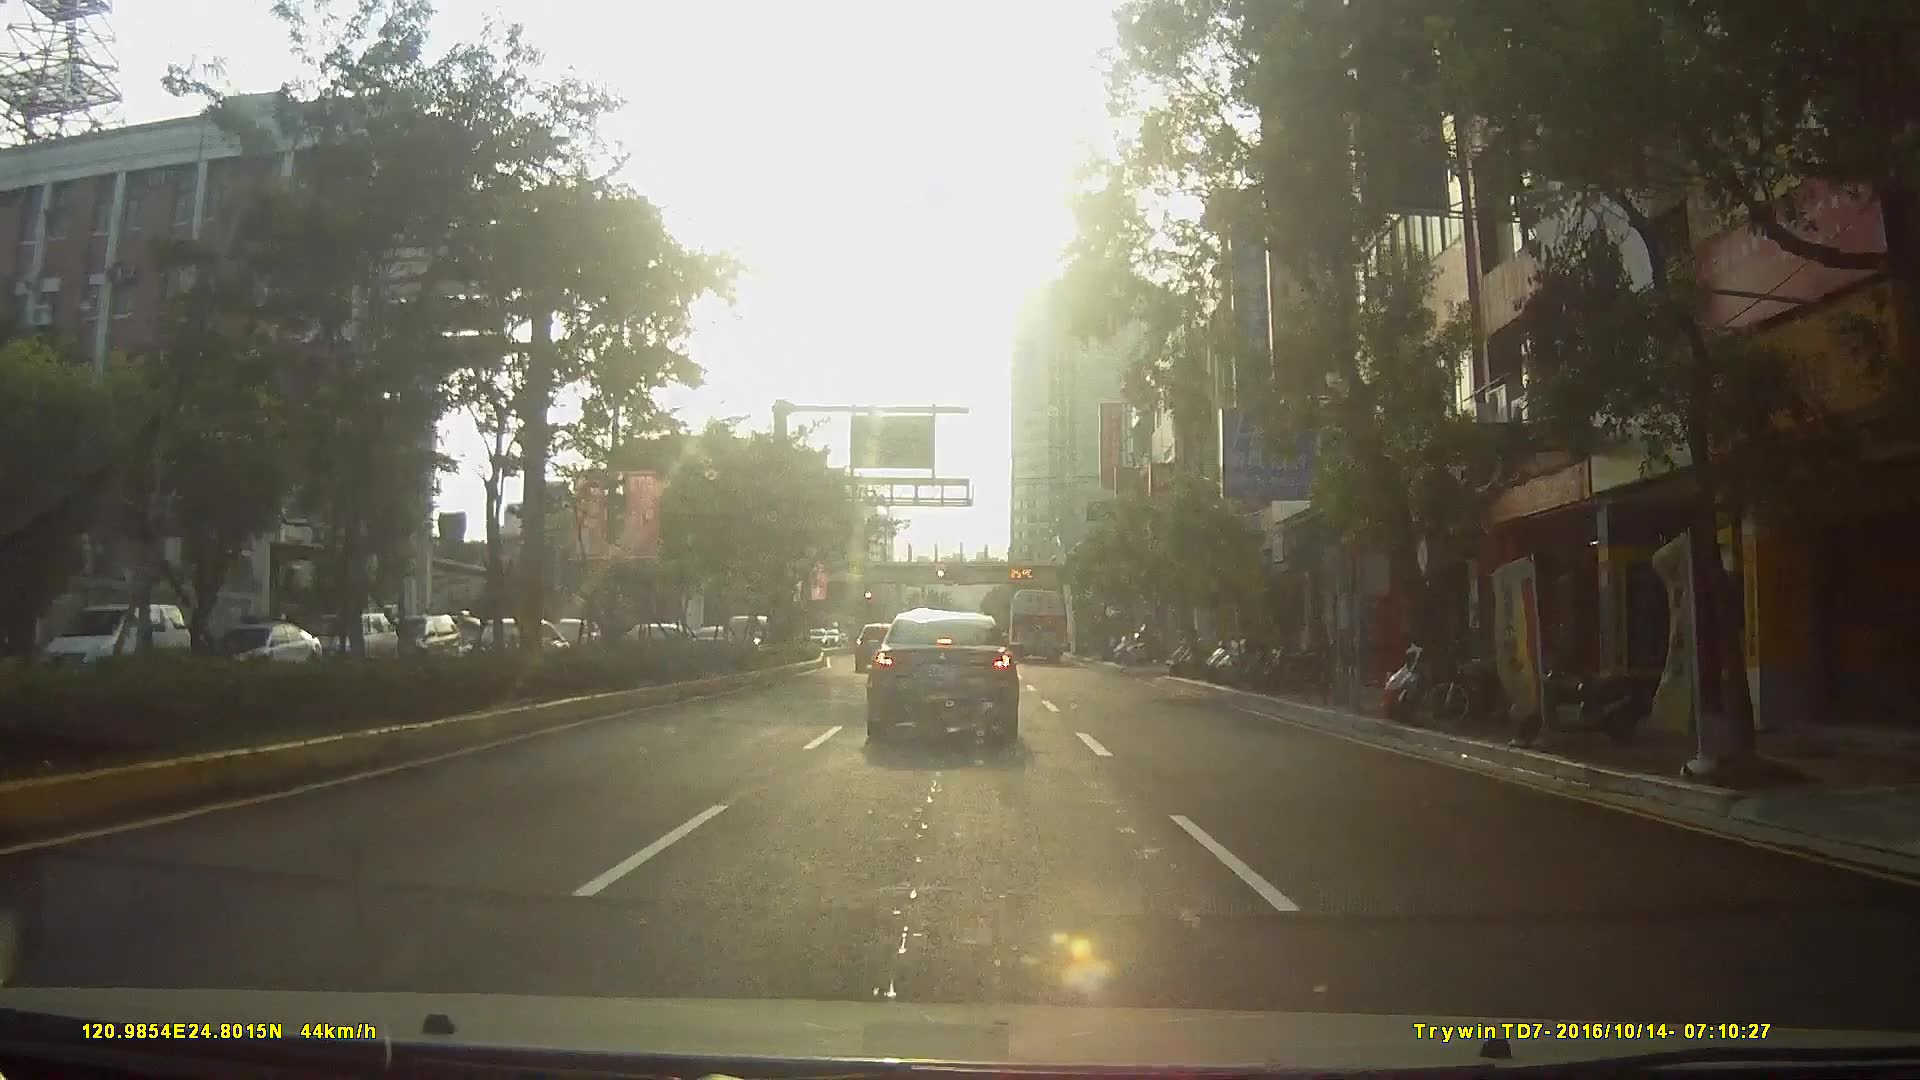vehicle: (861, 607, 1017, 741), (36, 600, 185, 679), (196, 621, 331, 691), (307, 609, 394, 667), (1005, 583, 1068, 659), (382, 612, 458, 666), (480, 612, 543, 651), (852, 621, 898, 670)
